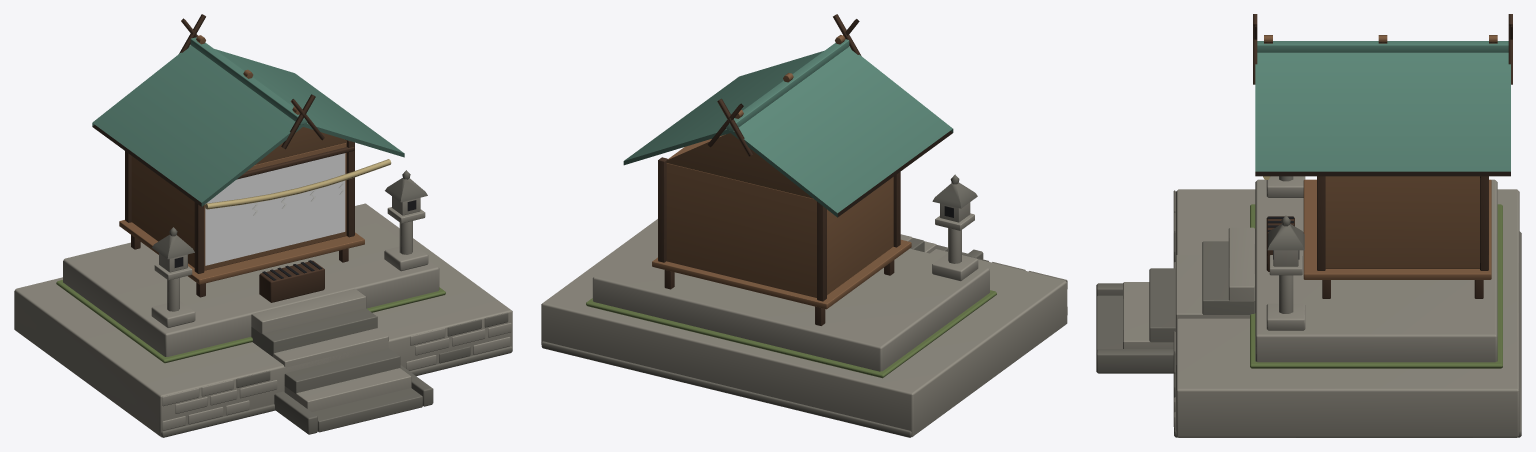
Rendered from ShrineKM.fbx.
The picture shows the model from 3 angles, left to right: view 1: azimuth 30°, elevation 25°; view 2: azimuth 150°, elevation 25°; view 3: azimuth 270°, elevation 25°; orthographic projection. The views are drawn at different scales.
Visible parts, largest first — view 1: ShrineKM; view 2: ShrineKM; view 3: ShrineKM.
Boxes of the visible parts, x1,y1,x2,y2 form: ShrineKM: [14, 14, 512, 437]; ShrineKM: [541, 14, 1067, 437]; ShrineKM: [1096, 14, 1521, 437].
Size of the model in its own units: 8.64 by 6.39 by 7.71.
